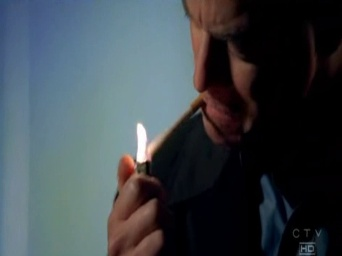smoke: (143, 97, 206, 159)
